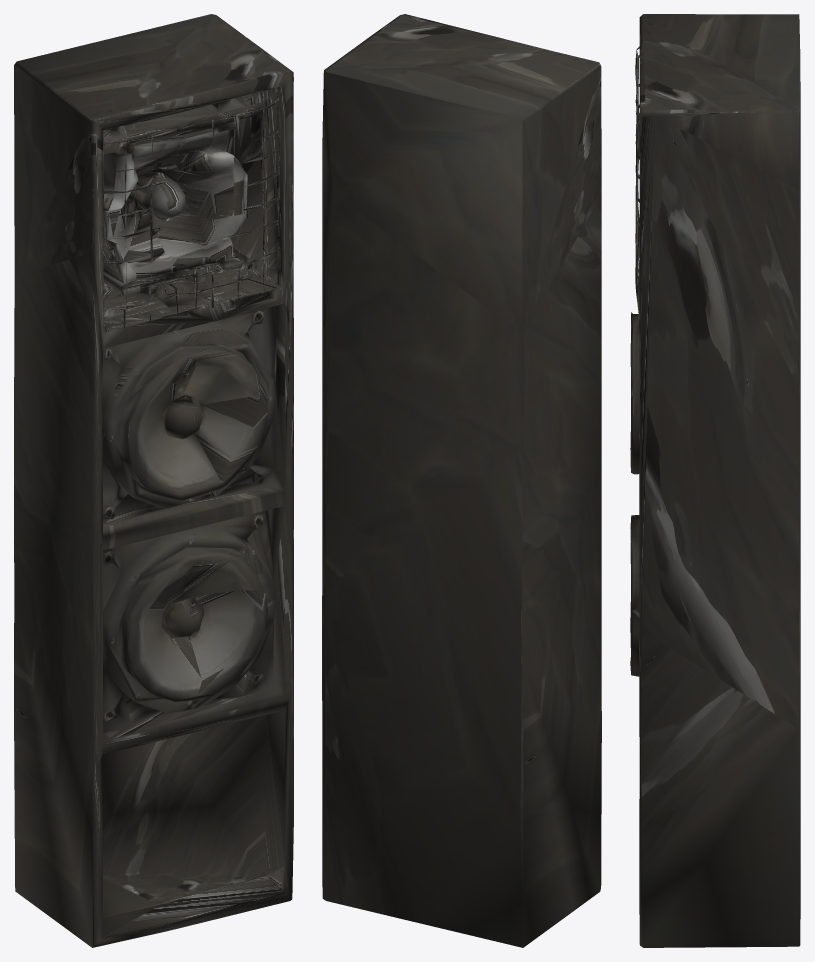
The model's file is speaker-stack.glb.
The picture shows the model from 3 angles, left to right: view 1: azimuth 30°, elevation 25°; view 2: azimuth 150°, elevation 25°; view 3: azimuth 270°, elevation 25°; orthographic projection.
Visible parts, largest first — view 1: tripo_node_0b1faa8f-a913-41cc-ba15-7dbbabd5f521; view 2: tripo_node_0b1faa8f-a913-41cc-ba15-7dbbabd5f521; view 3: tripo_node_0b1faa8f-a913-41cc-ba15-7dbbabd5f521.
Part boxes in pixels (<box>): tripo_node_0b1faa8f-a913-41cc-ba15-7dbbabd5f521: <box>14,14,293,947</box>; tripo_node_0b1faa8f-a913-41cc-ba15-7dbbabd5f521: <box>322,14,601,947</box>; tripo_node_0b1faa8f-a913-41cc-ba15-7dbbabd5f521: <box>630,14,800,947</box>.
Bounding box in the file's own units: 0.2498 × 0.9798 × 0.1807.
1 material, 1 textured.
